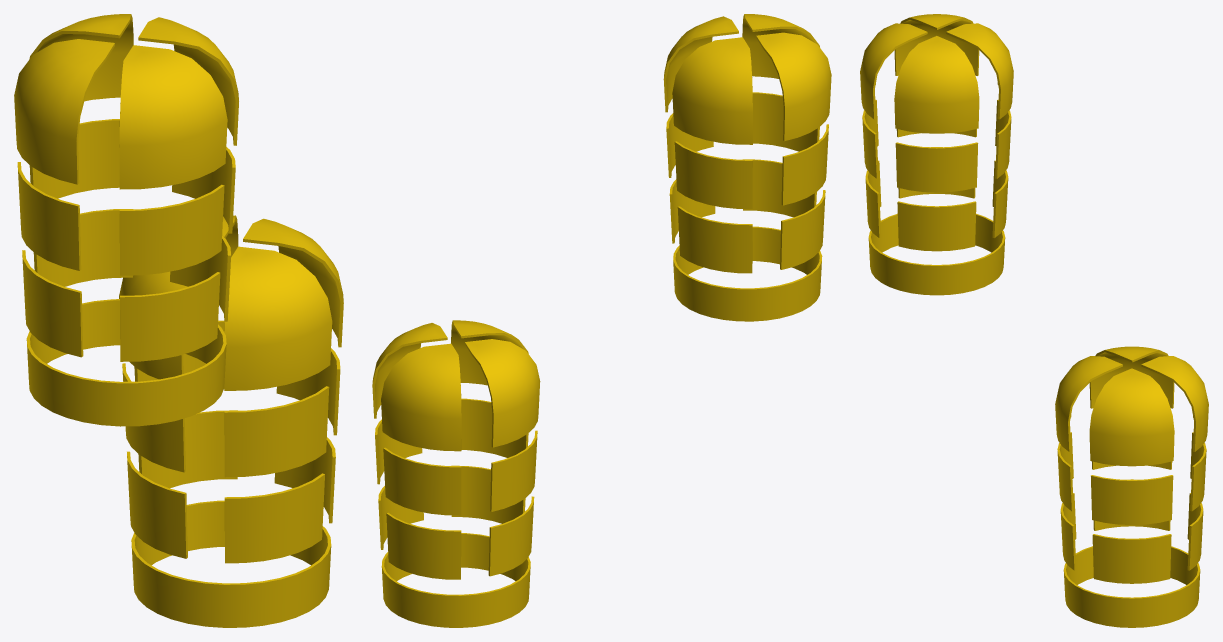
The model's file is Leds.fbx.
3 views of the same model, side by side, from view 1: azimuth 30°, elevation 25°; view 2: azimuth 150°, elevation 25°; view 3: azimuth 270°, elevation 25° (orthographic). The views are drawn at different scales.
Visible parts, largest first — view 1: Maquina3Base.002, Maquina3Base.001; view 2: Maquina3Base.001, Maquina3Base.002; view 3: Maquina3Base.002, Maquina3Base.001.
Boxes of the visible parts, <box> form: Maquina3Base.002: <box>14,14,238,426</box>; Maquina3Base.001: <box>119,215,343,627</box>; Maquina3Base.001: <box>372,320,540,627</box>; Maquina3Base.002: <box>663,14,831,321</box>; Maquina3Base.002: <box>860,14,1013,295</box>; Maquina3Base.001: <box>1055,346,1208,627</box>.
Bounding box in the file's own units: 15.51 × 23.8 × 15.51.
